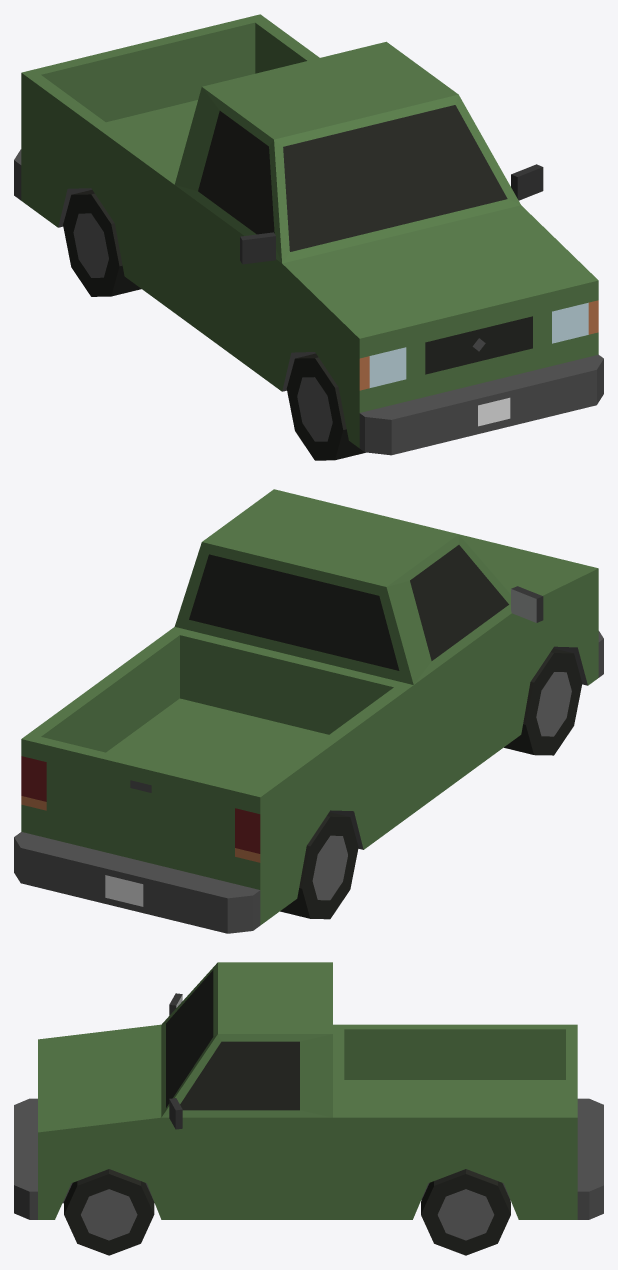
The model's file is Veh_Pickup_01_Green.obj.
3 renders of one model, top to bottom at view 1: azimuth 30°, elevation 25°; view 2: azimuth 150°, elevation 25°; view 3: azimuth 270°, elevation 25°, orthographic. The views are drawn at different scales.
Size of the model in its own units: 1.34 by 1.12 by 2.85.
